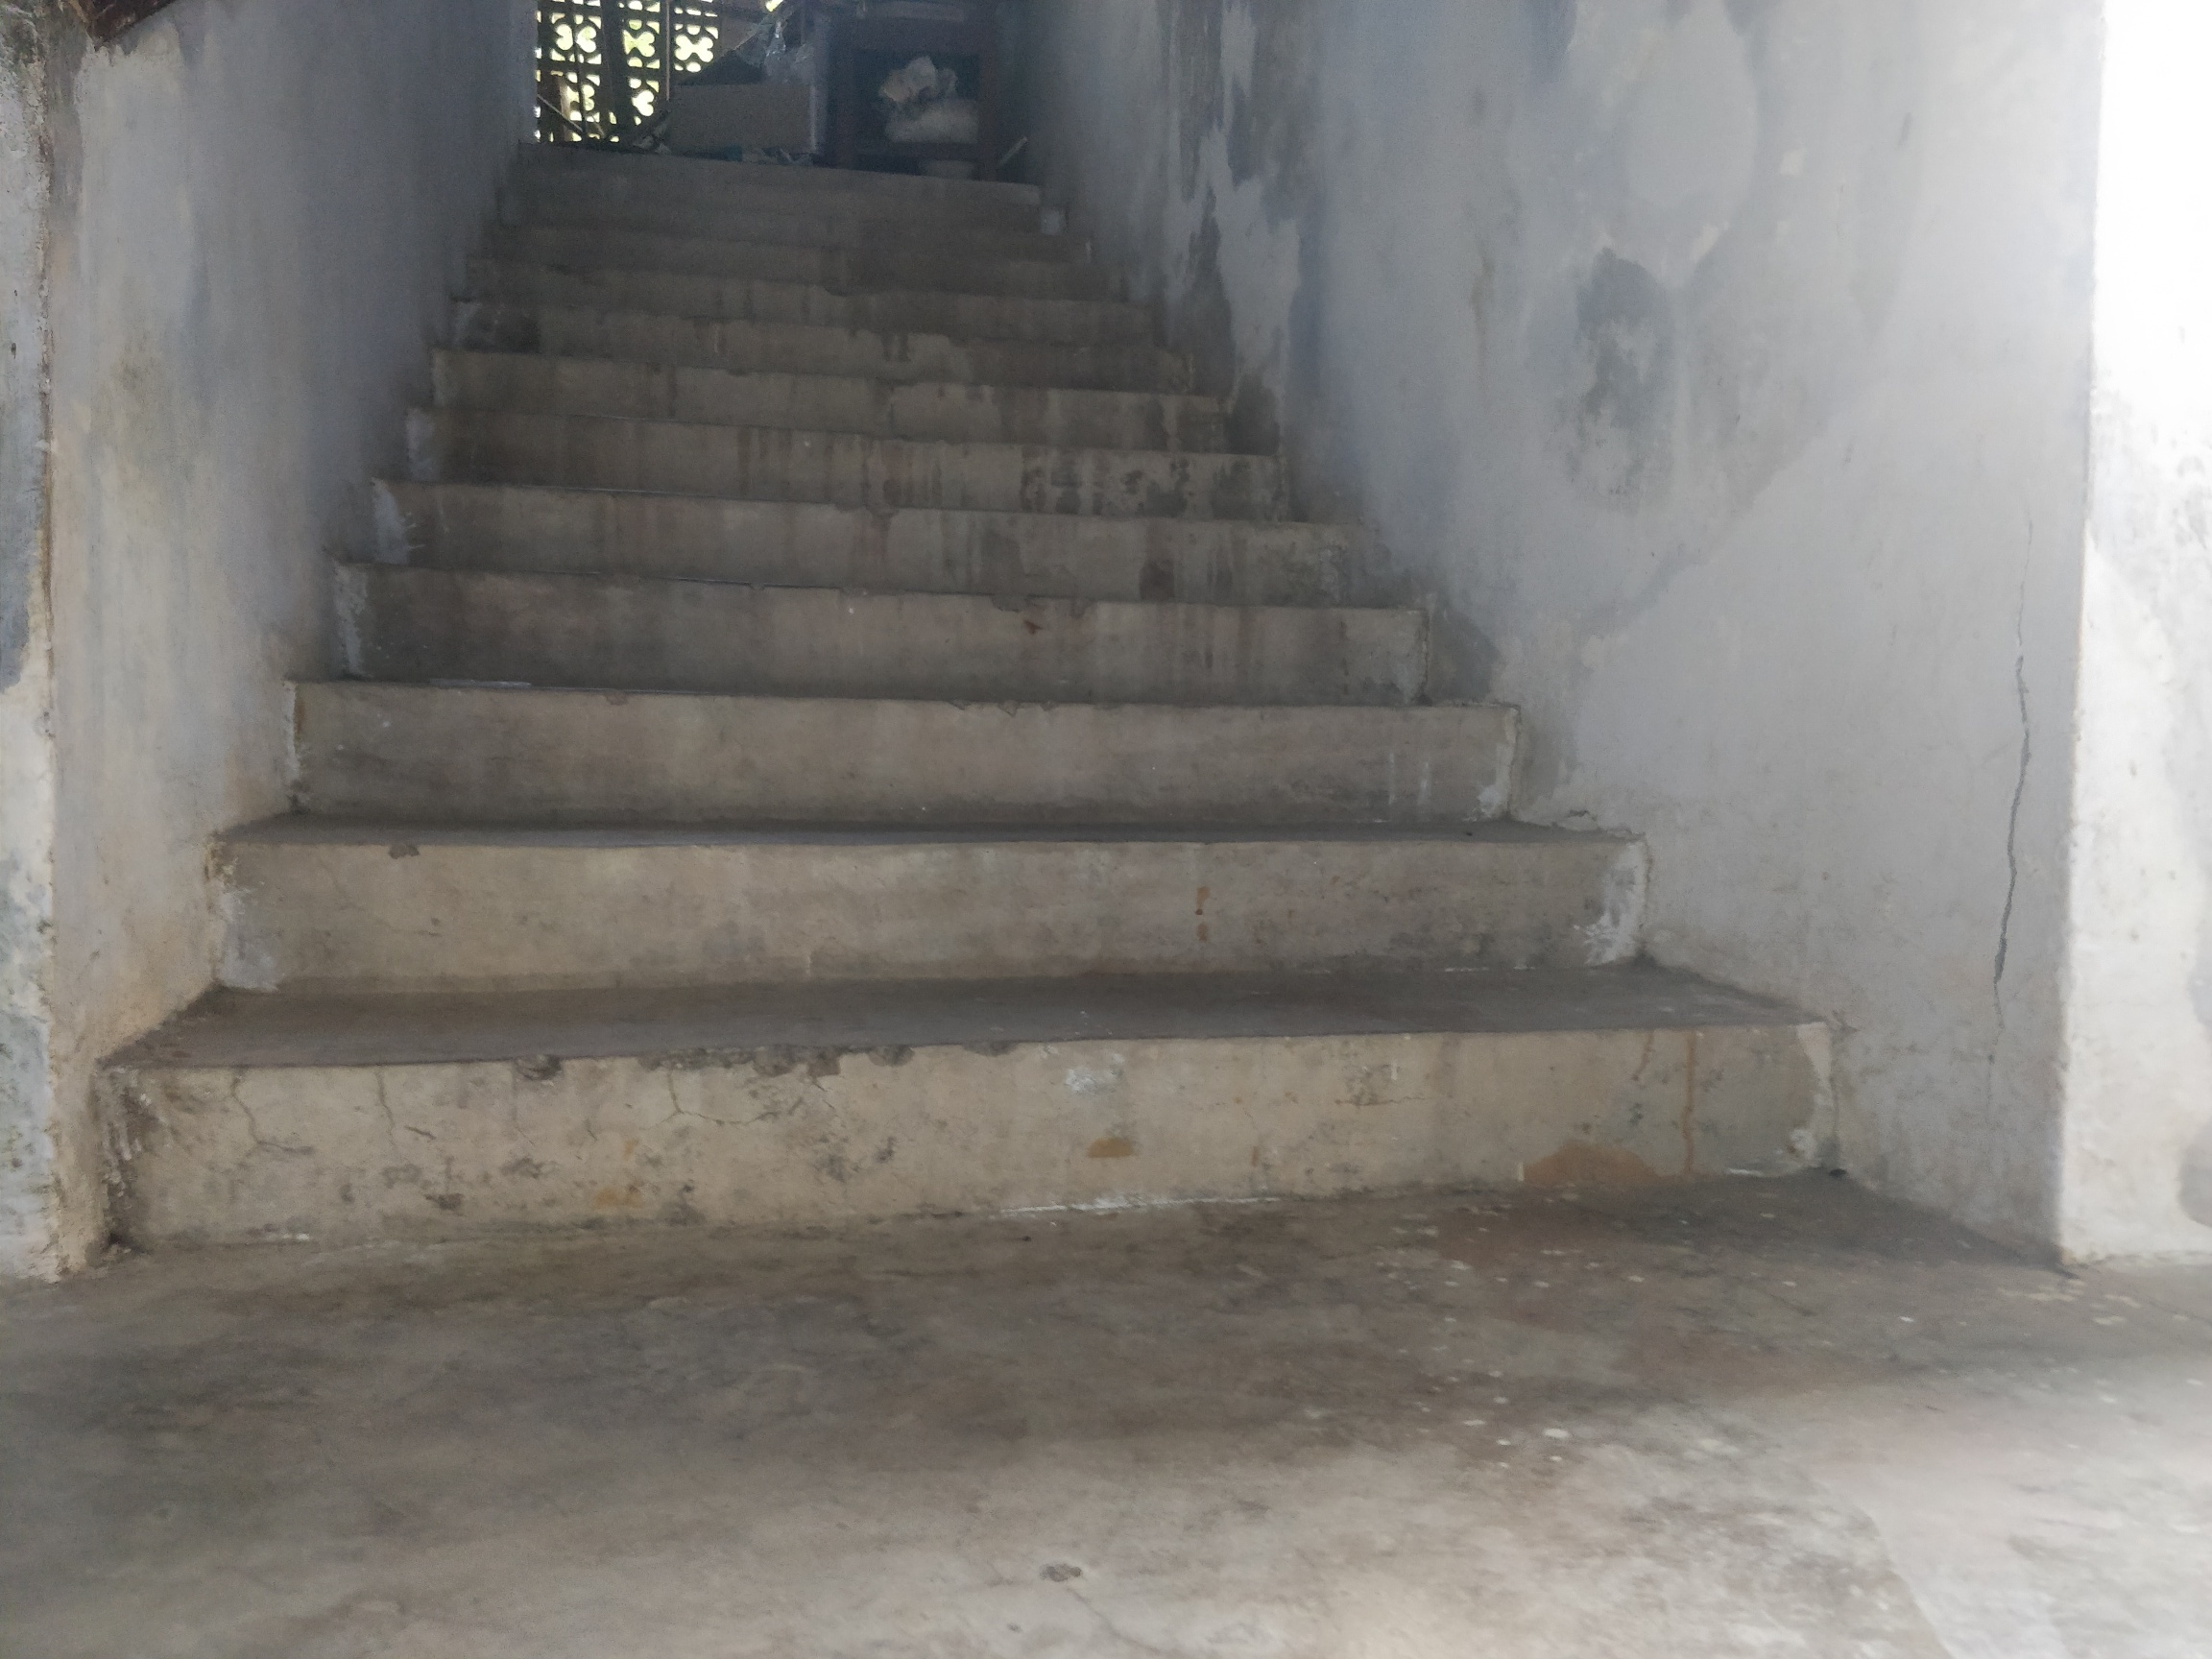stairs_up: (186, 174, 1761, 1258)
